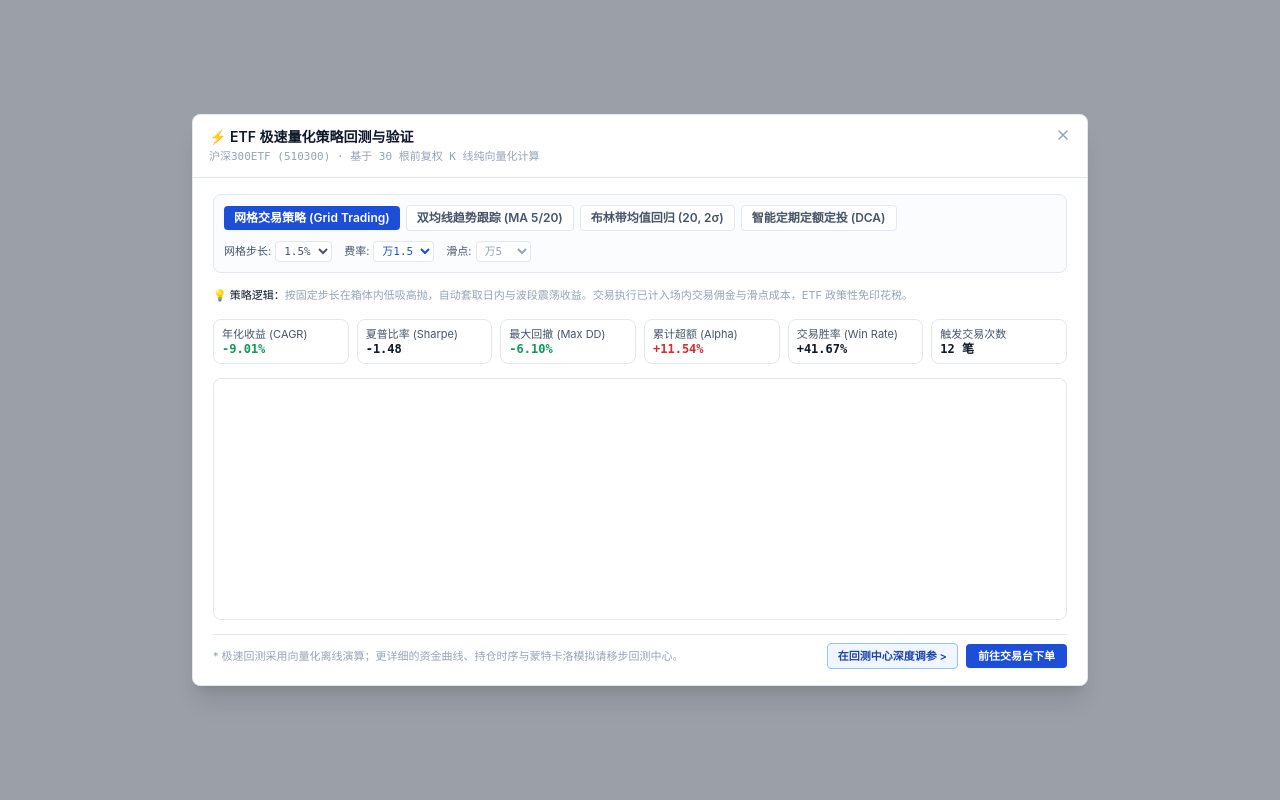
Test: QuickEtfBacktestModal 组件 › 支持切换策略模板与调整网格参数
Step 1. Click the button "双均线趋势跟踪 (MA 5/20)" → {"x": 490, "y": 218}, box x1=406 y1=205 x2=574 y2=231
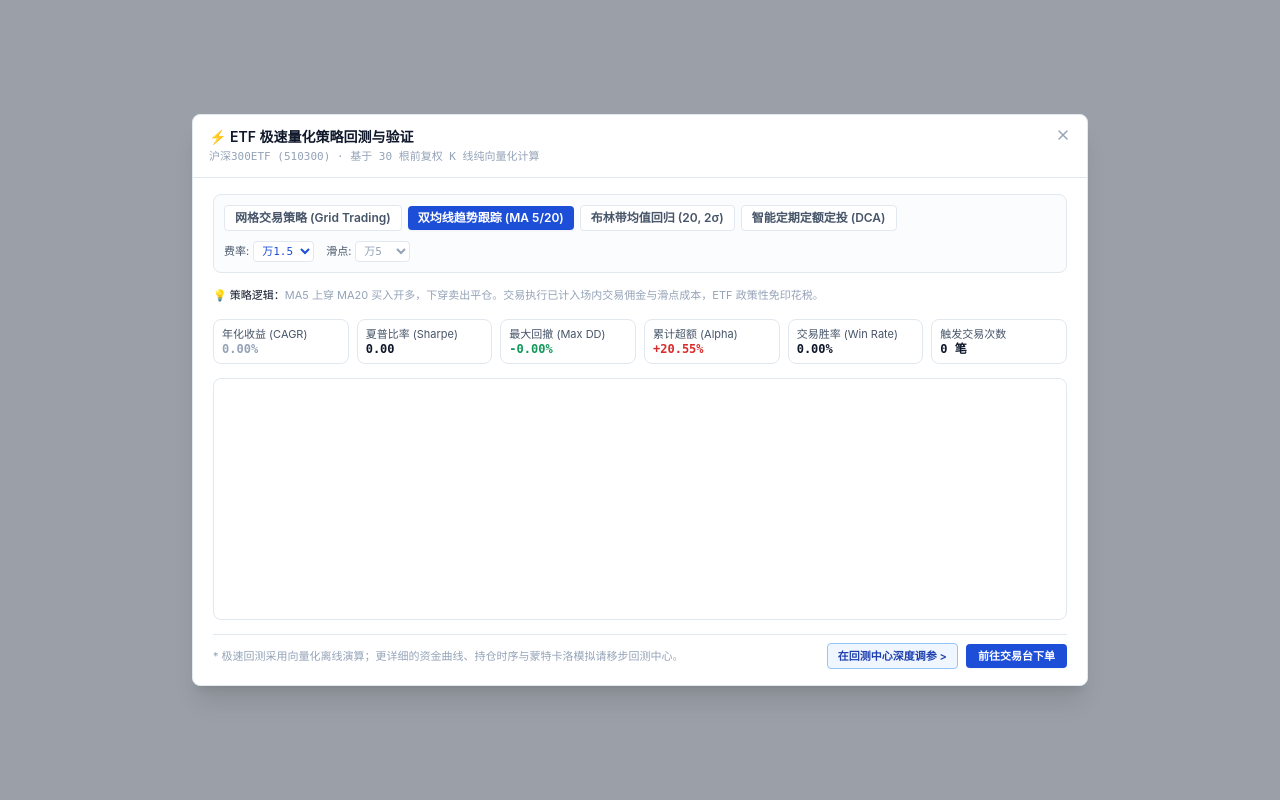
Expected: the text "MA5 上穿 MA20 买入开多" is shown, x1=285 y1=288 x2=492 y2=302
Step 2. Click the button "智能定期定额定投 (DCA)" → {"x": 819, "y": 218}, box x1=741 y1=205 x2=897 y2=231
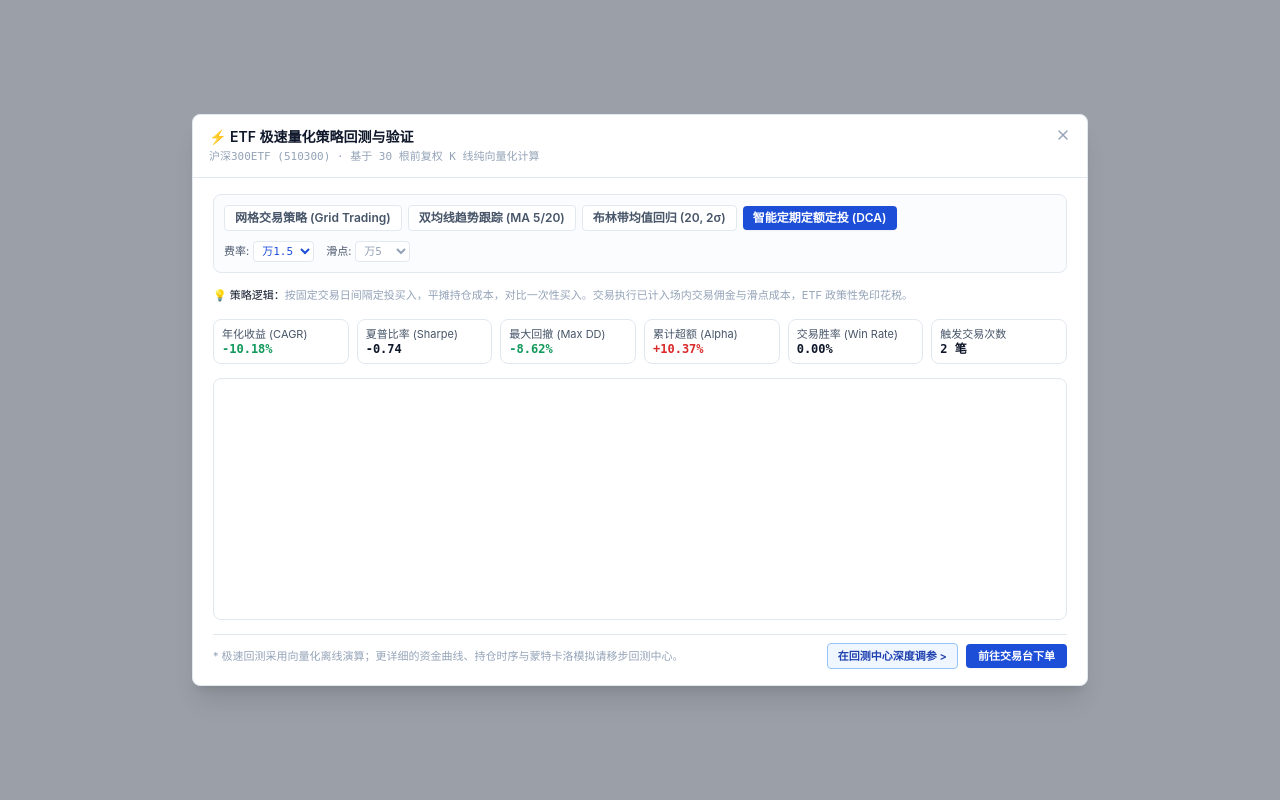
Expected: the text "按固定交易日间隔定投买入" is shown, x1=285 y1=288 x2=582 y2=302
